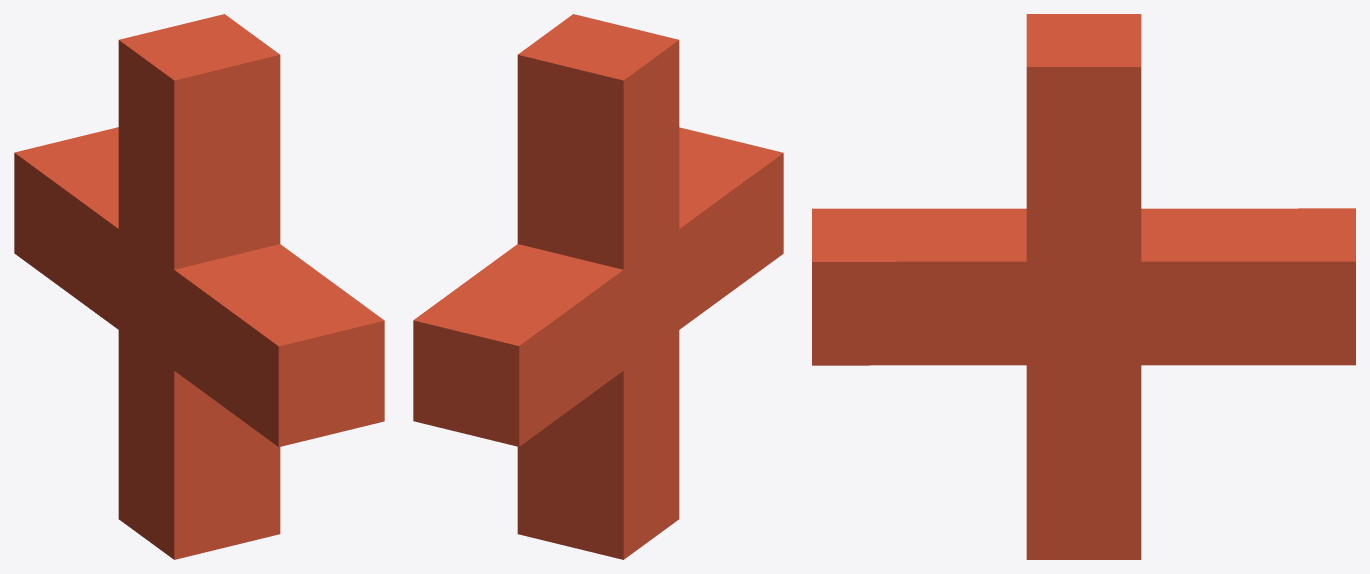
Rendered from 3D_plus.glb.
The picture shows the model from 3 angles, left to right: view 1: azimuth 30°, elevation 25°; view 2: azimuth 150°, elevation 25°; view 3: azimuth 270°, elevation 25°; orthographic projection. The views are drawn at different scales.
Parts seen in each view (by area): view 1: Cube; view 2: Cube; view 3: Cube.
Boxes of the visible parts, left/top/right/bottom form: Cube: left=14, top=14, right=384, bottom=559; Cube: left=413, top=14, right=783, bottom=559; Cube: left=812, top=14, right=1355, bottom=559.
Bounding box in the file's own units: 0.2312 × 0.9999 × 1.
